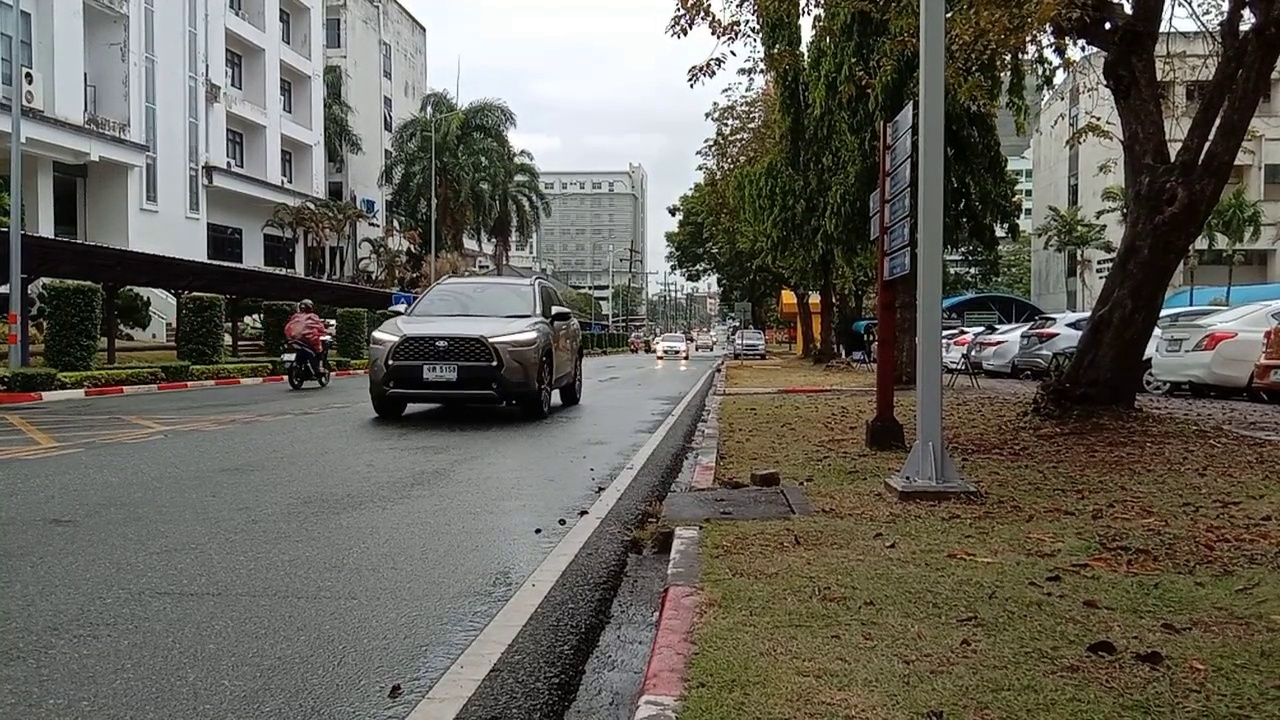License Plate: (420, 361, 458, 382)
